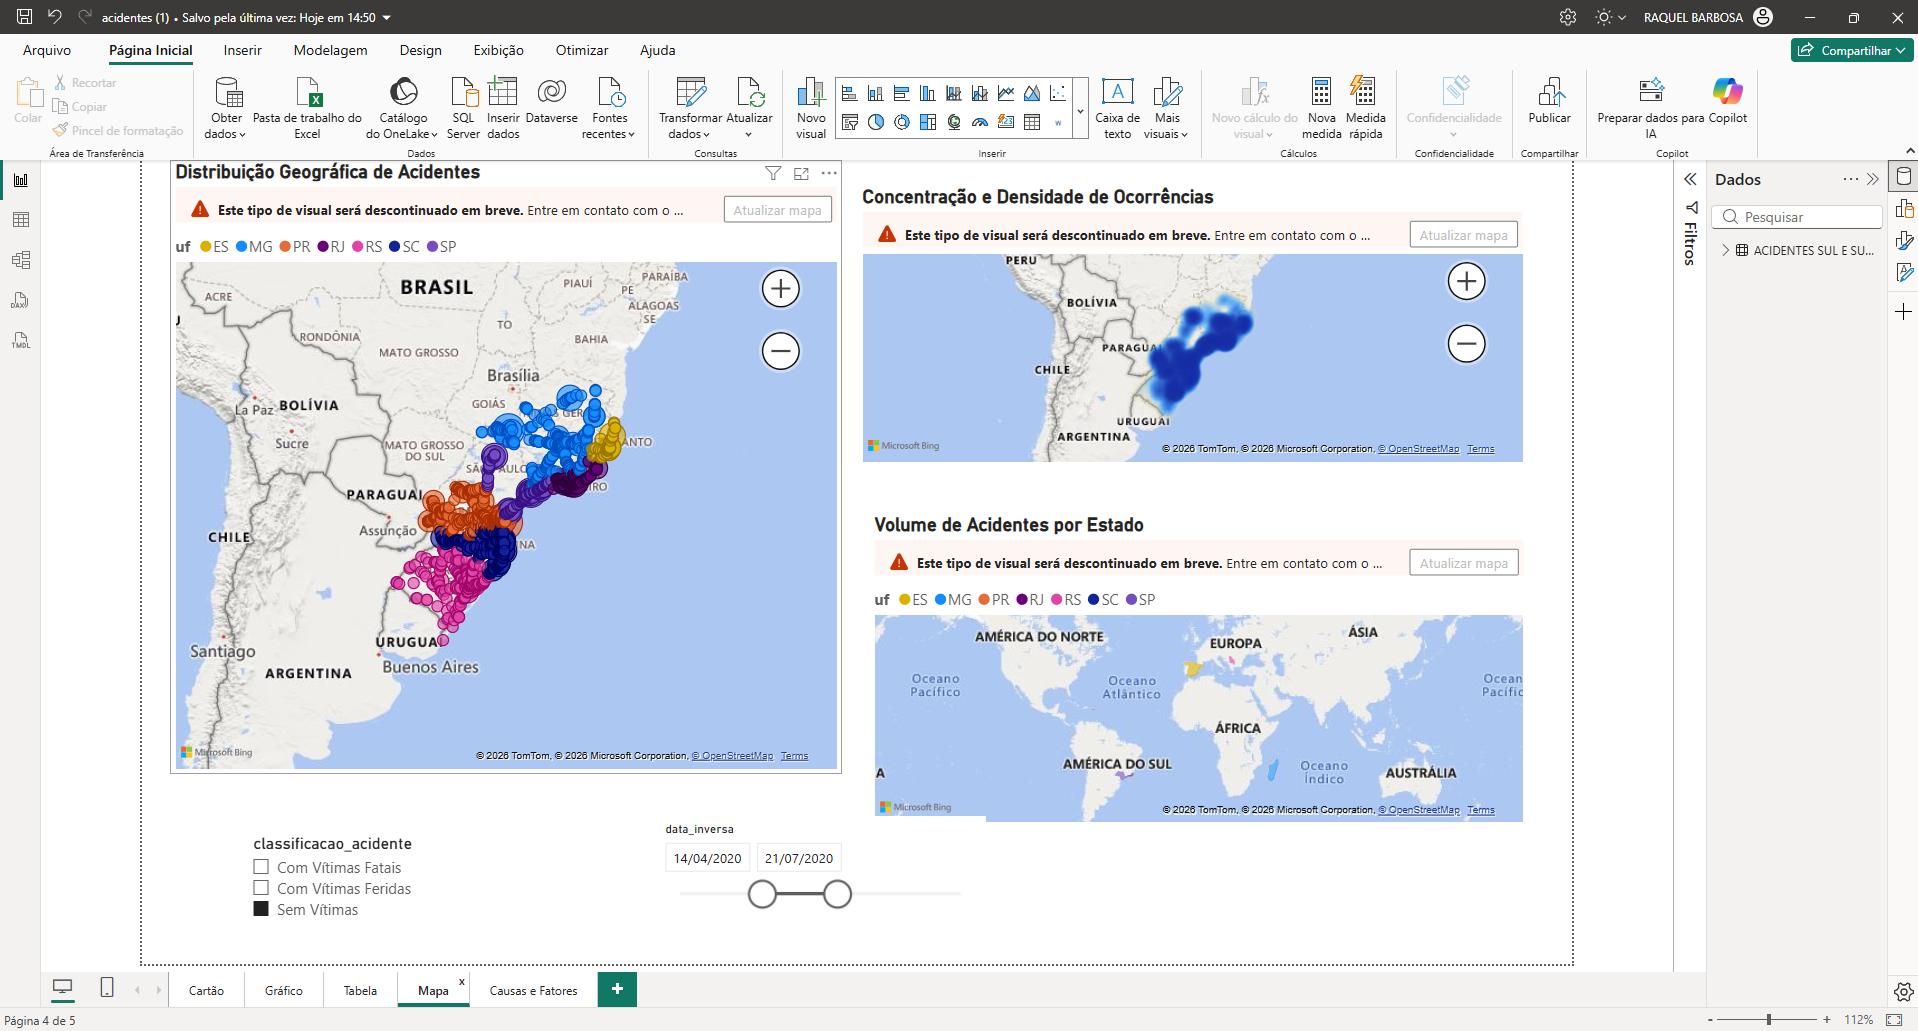

This screenshot's page, from the dashboard's own definition file:
{"tool":"powerbi","page":{"name":"Mapa","canvas":[1280,720],"ordinal":3},"visuals":[{"type":"map","title":"Distribuição Geográfica  de Acidentes ","fields":{"Series":["ACIDENTES SUL E SUDESTE.uf"],"Size":["ACIDENTES SUL E SUDESTE.QT_ACID"],"X":["ACIDENTES SUL E SUDESTE.longitude"],"Y":["ACIDENTES SUL E SUDESTE.latitude"]},"box":[25,0,601.7,550.3],"z":0},{"type":"map","title":"Concentração e Densidade de Ocorrências","fields":{"Size":["ACIDENTES SUL E SUDESTE.QT_ACID"],"X":["ACIDENTES SUL E SUDESTE.longitude"],"Y":["ACIDENTES SUL E SUDESTE.latitude"]},"box":[640.6,22.1,601.1,253.4],"z":1000},{"type":"filledMap","title":"Volume de Acidentes por Estado","fields":{"Category":["ACIDENTES SUL E SUDESTE.uf"],"Series":["ACIDENTES SUL E SUDESTE.uf"]},"box":[651,316.2,590.6,282.5],"z":2000},{"type":"slicer","fields":{"Values":["ACIDENTES SUL E SUDESTE.classificacao_acidente"]},"box":[86.8,598.8,303.1,97.1],"z":3000},{"type":"slicer","fields":{"Values":["ACIDENTES SUL E SUDESTE.data_inversa"]},"box":[456.1,587,300.1,120.6],"z":4000}]}

Visuals, with their boxes on the page's 1280x720 design canvas (x1, y1, x2, y2). These are canvas units, not pixel positions in the 1918x1031 screenshot, which may show the page scaled, cropped or inside an application window:
"Distribuição Geográfica  de Acidentes " map: crop(25, 0, 627, 550)
"Concentração e Densidade de Ocorrências" map: crop(641, 22, 1242, 276)
"Volume de Acidentes por Estado" filledMap: crop(651, 316, 1242, 599)
slicer - ACIDENTES SUL E SUDESTE.classificacao_acidente: crop(87, 599, 390, 696)
slicer - ACIDENTES SUL E SUDESTE.data_inversa: crop(456, 587, 756, 708)
